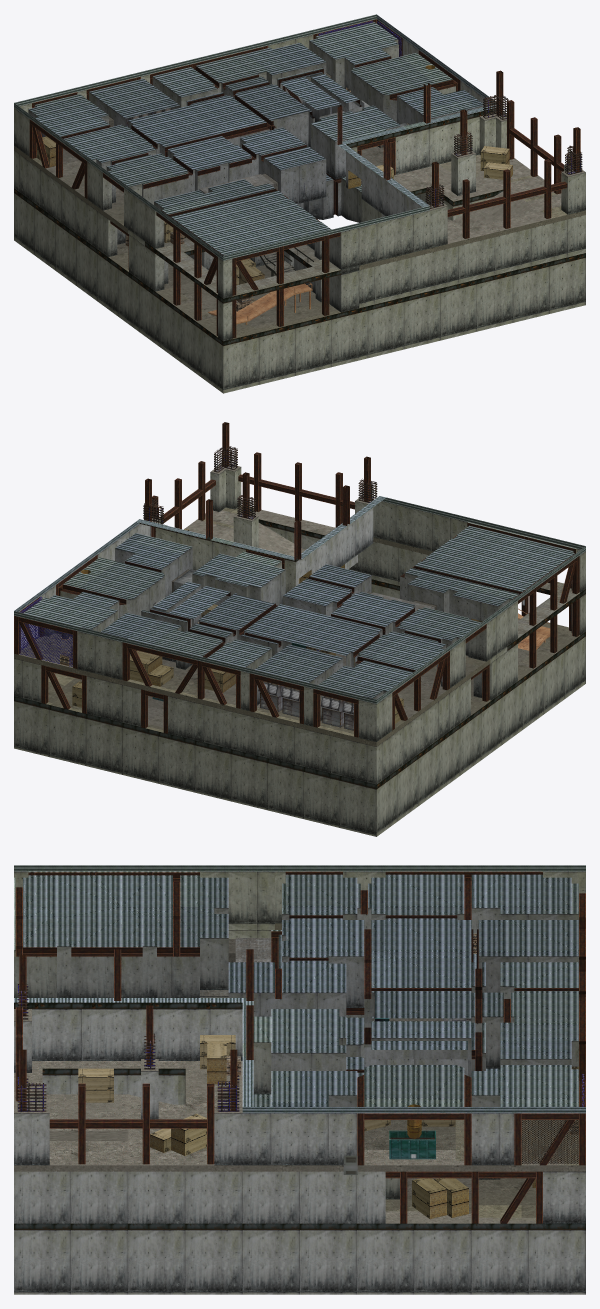
Rendered from de_vertigo.glb.
The picture shows the model from 3 angles, top to bottom: view 1: azimuth 30°, elevation 25°; view 2: azimuth 150°, elevation 25°; view 3: azimuth 270°, elevation 25°; orthographic projection. The views are drawn at different scales.
Parts seen in each view (by area): view 1: de_vertigo-world; view 2: de_vertigo-world; view 3: de_vertigo-world.
Boxes of the visible parts, x1,y1,x2,y2 form: de_vertigo-world: (14,14,585,393); de_vertigo-world: (14,422,585,836); de_vertigo-world: (14,865,585,1294).
Size of the model in its own units: 32.03 by 14.8 by 32.
41 materials, 41 textured.
